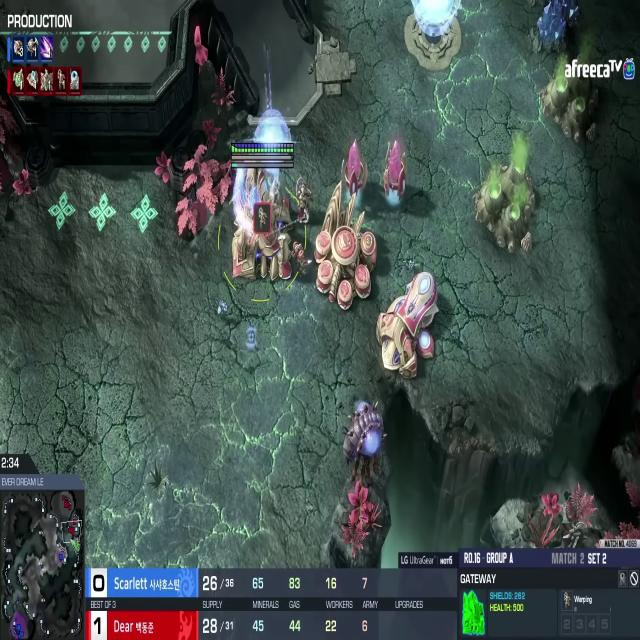adept: (293, 175, 313, 229)
overlord: (341, 391, 390, 493)
zealot: (290, 231, 312, 285)
